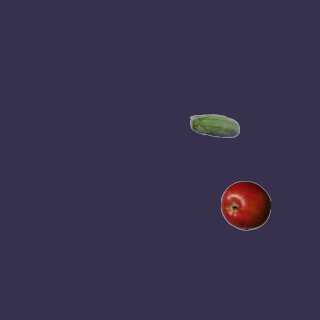Apple Braeburn: (220, 180, 270, 230)
Corn Husk: (189, 102, 239, 152)
